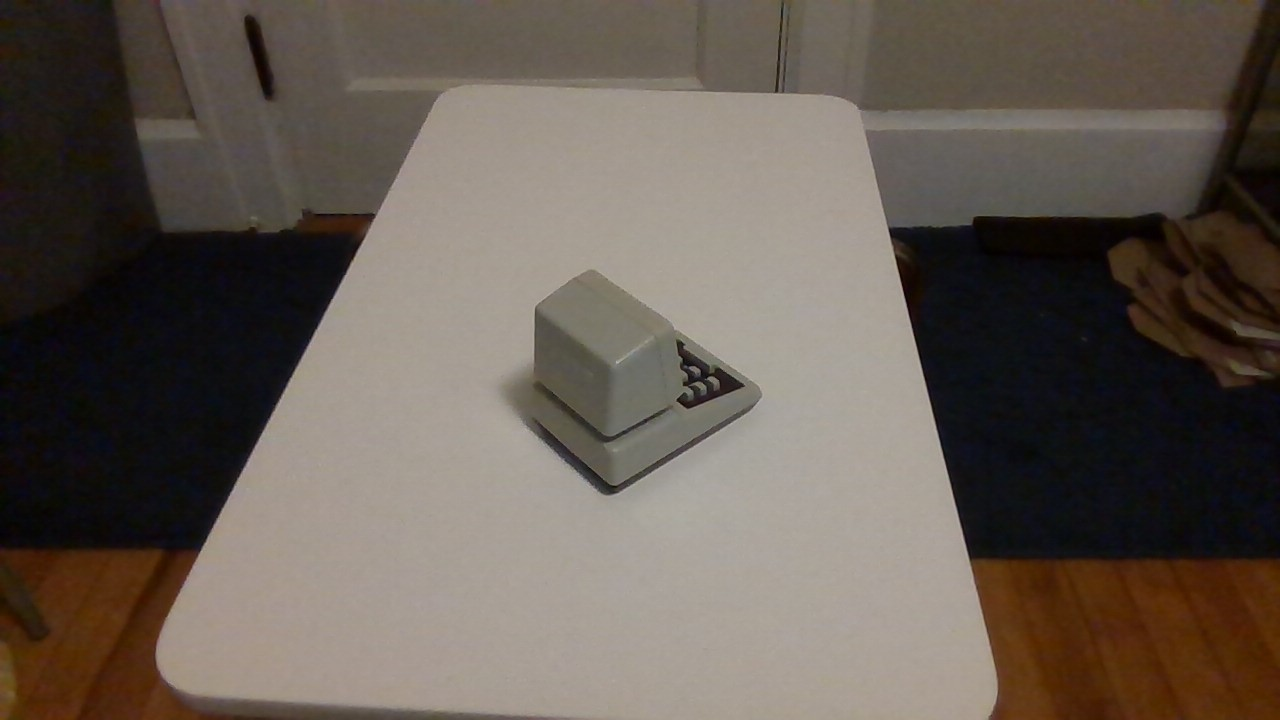Toy: (508, 243, 772, 515)
